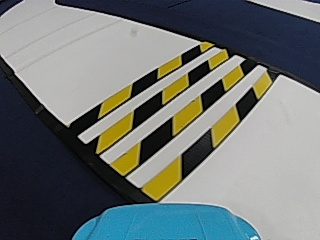bump: (76, 50, 277, 171)
